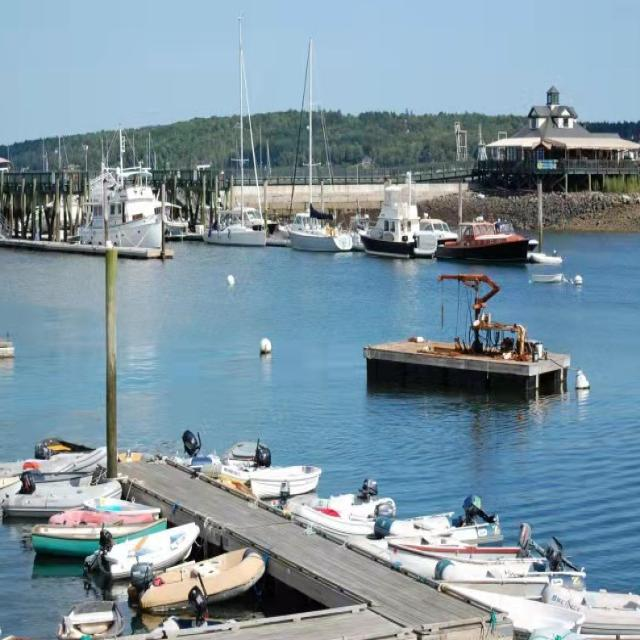houseboat: (89, 166, 157, 273), (433, 219, 533, 265), (361, 189, 420, 245), (284, 208, 352, 247), (211, 204, 269, 244)
